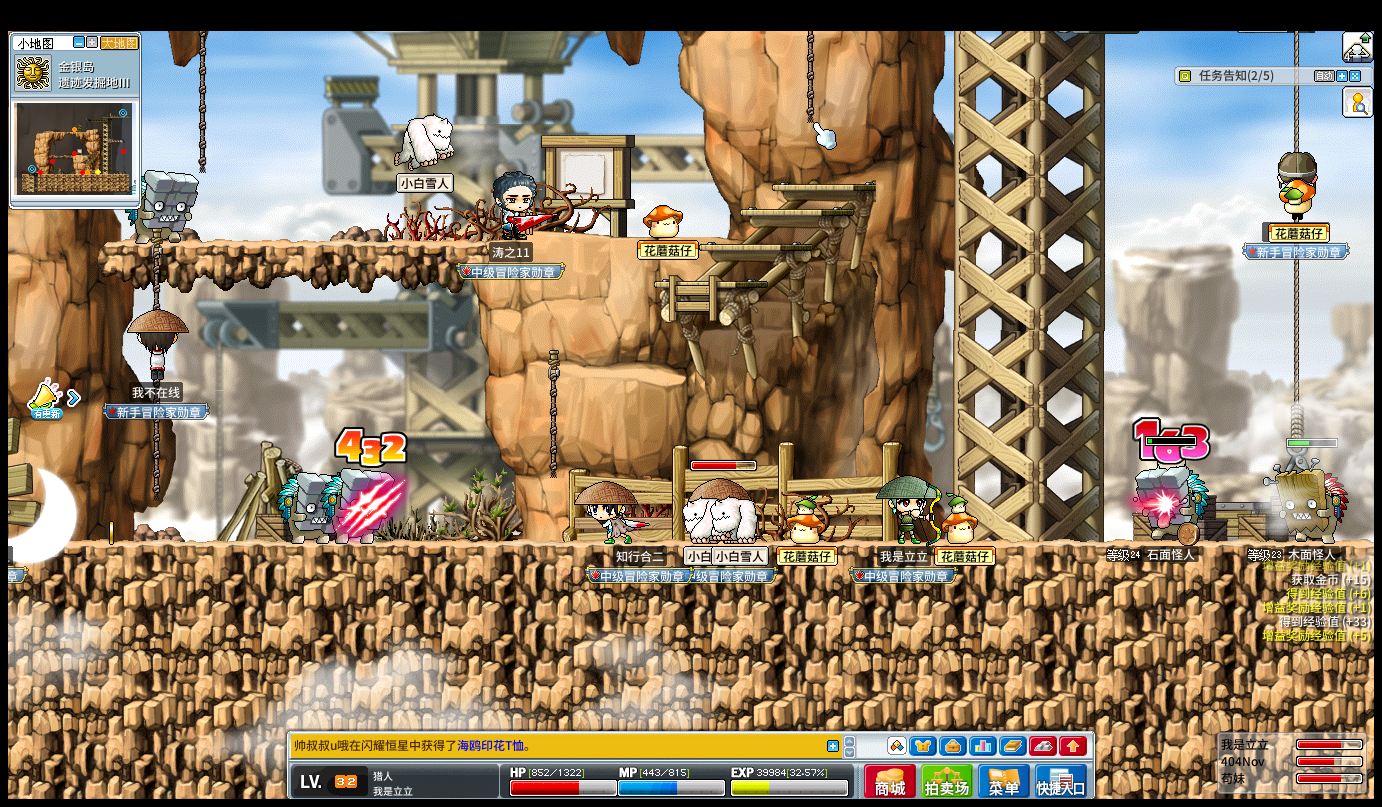floor: (69, 538, 1372, 551), (97, 237, 481, 250), (580, 364, 687, 387), (652, 281, 767, 291), (741, 207, 846, 215), (772, 183, 876, 190)
monster: (1267, 459, 1347, 540), (1132, 464, 1211, 541), (321, 469, 395, 544), (135, 168, 201, 243), (277, 473, 321, 545)
rope: (547, 349, 561, 484), (198, 32, 207, 174), (151, 420, 164, 502), (151, 232, 164, 307), (1293, 257, 1299, 404), (806, 31, 815, 123), (806, 31, 814, 124), (151, 417, 160, 499), (1293, 31, 1299, 151)
